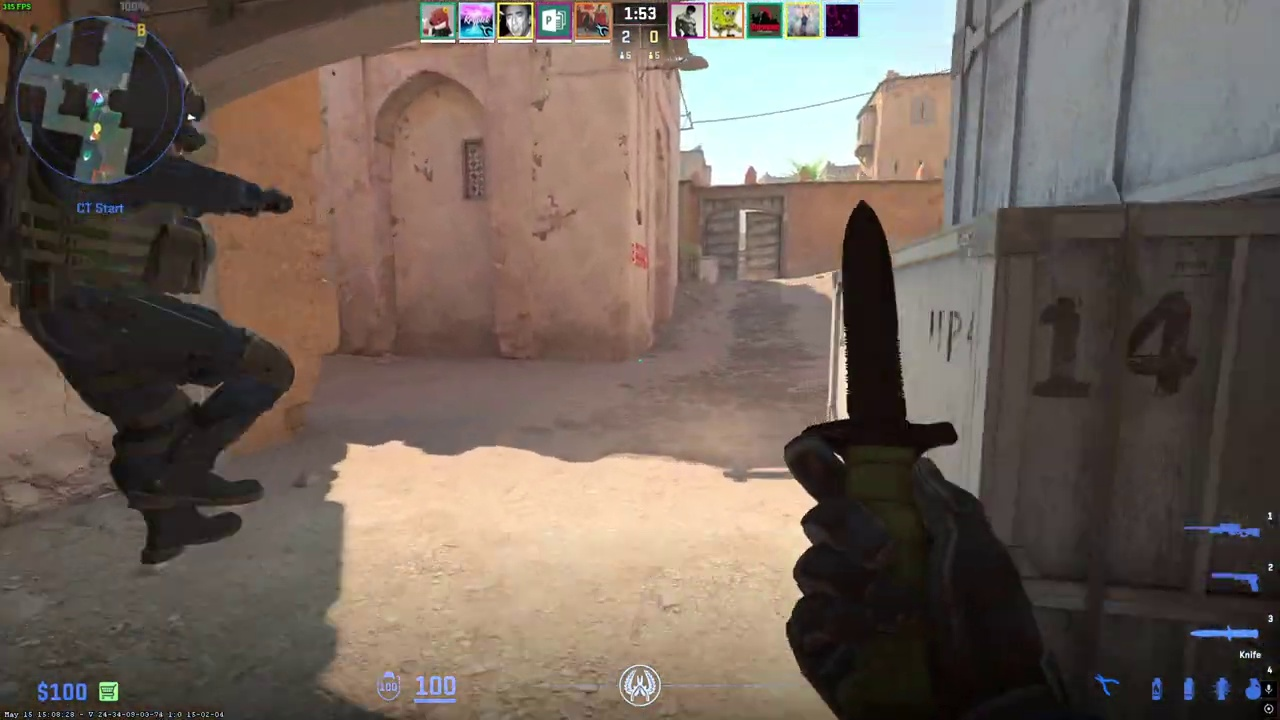CT: (0, 16, 300, 570)
